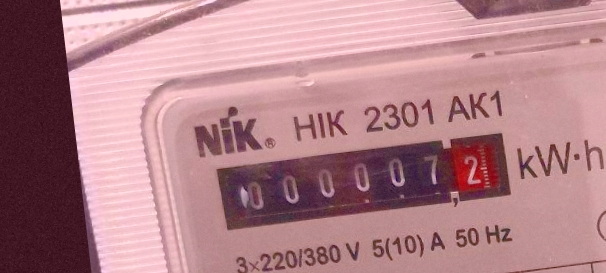0: (312, 162, 339, 203), (242, 176, 268, 213), (383, 152, 408, 190), (350, 158, 374, 197), (279, 170, 303, 207)
2: (460, 151, 485, 189)
7: (419, 149, 445, 189)
screen: (210, 124, 521, 238)
